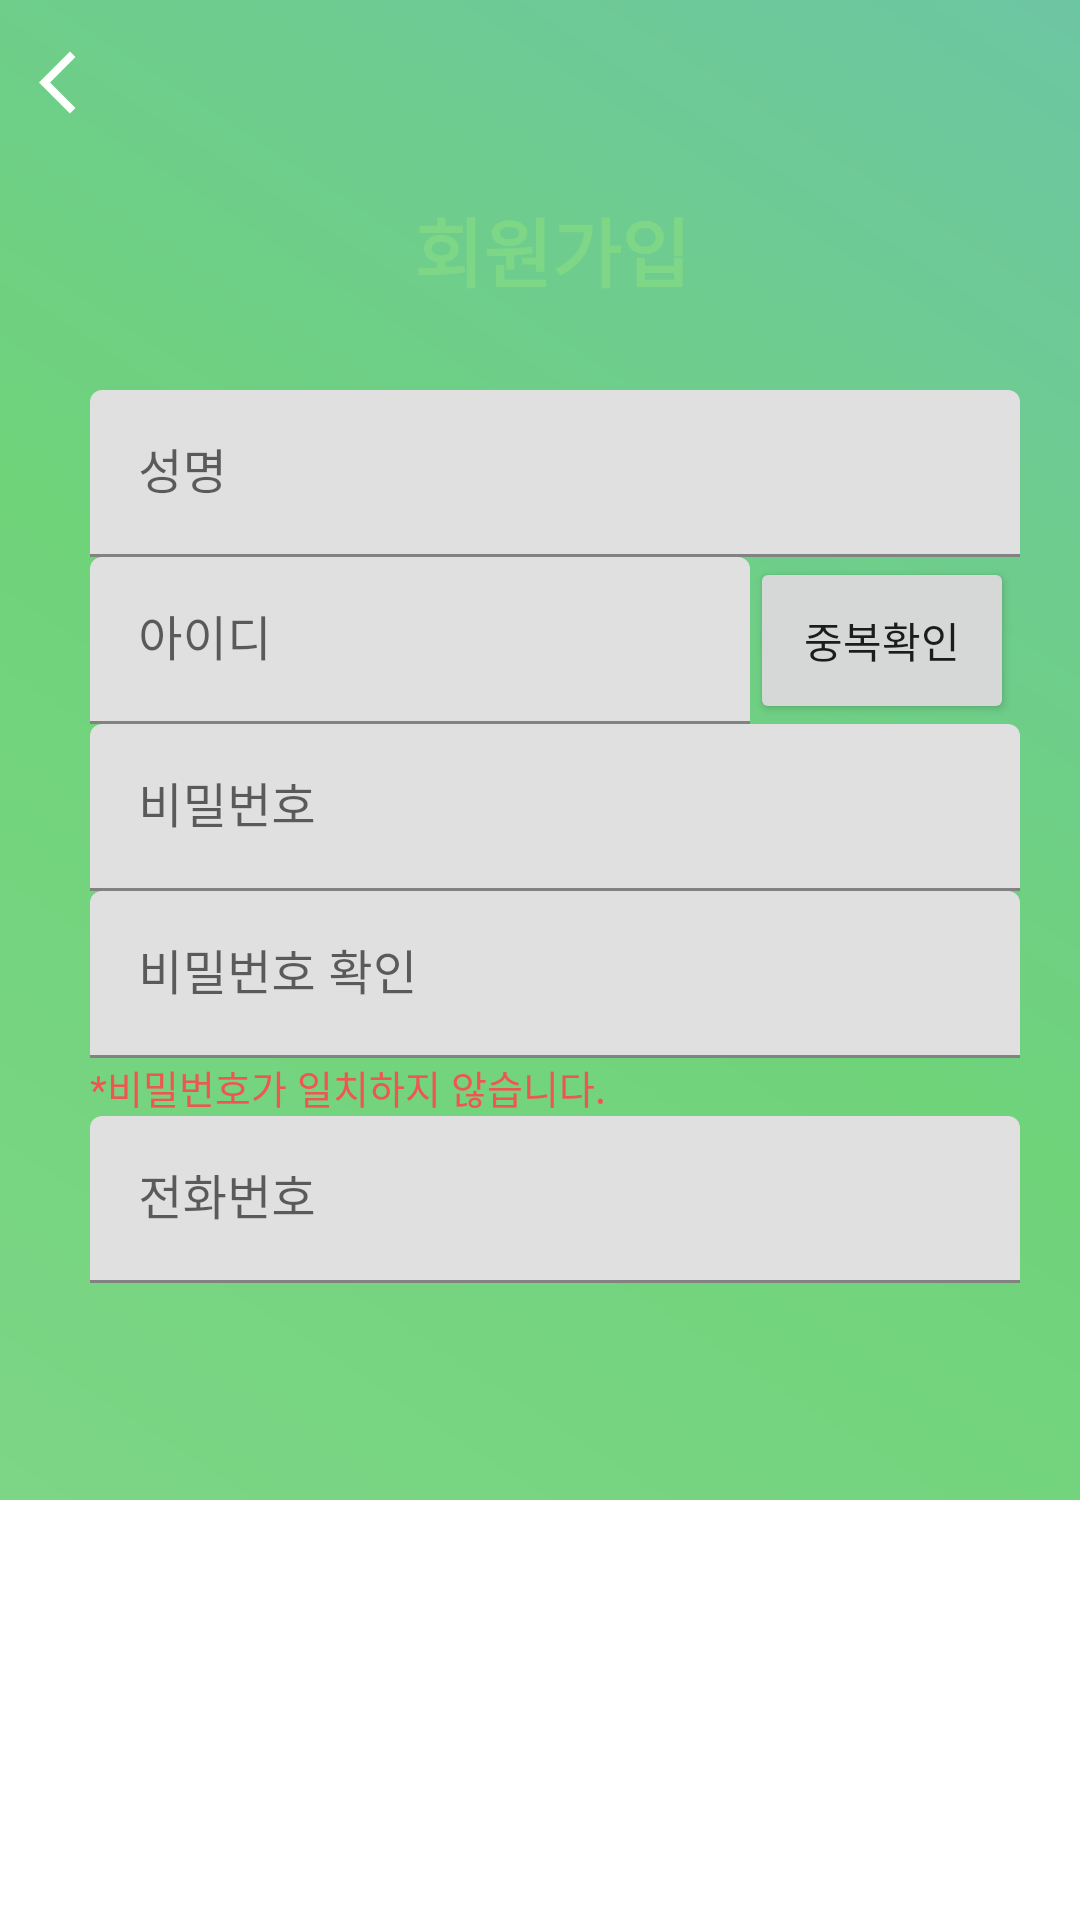

Icons on this 1080*1920 Android screen, each with the point to tap as [x,y]:
arrow back: [57,82]
